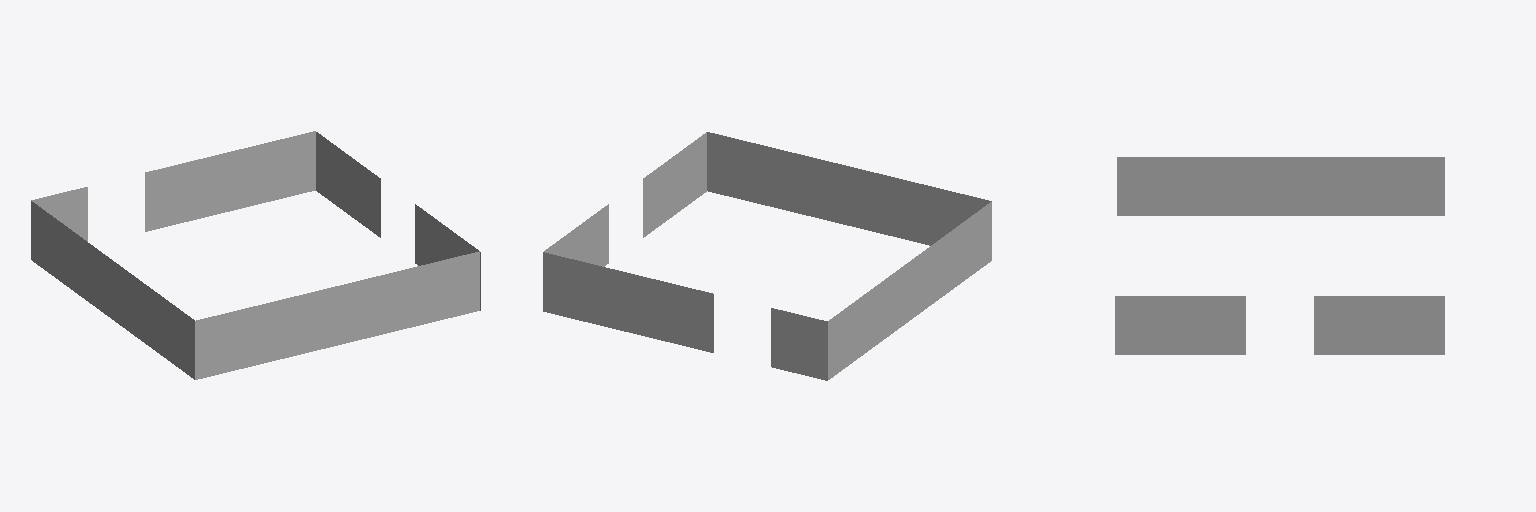
File: Stage.obj
3 views of the same model, side by side, from view 1: azimuth 30°, elevation 25°; view 2: azimuth 150°, elevation 25°; view 3: azimuth 270°, elevation 25° (orthographic).
Parts seen in each view (by area): view 1: 立方体.005, 立方体.001, 立方体.004, 立方体.002, 立方体.003, 立方体; view 2: 立方体.005, 立方体.001, 立方体.004, 立方体.003, 立方体, 立方体.002; view 3: 立方体.004, 立方体.002, 立方体.003.
Part boxes in pixels (x1,y1,x2,y2): 立方体.005: (195,251,479,379); 立方体.001: (145,131,315,231); 立方体.004: (31,201,194,379); 立方体.002: (316,132,380,237); 立方体.003: (415,204,480,310); 立方体: (31,187,87,241); 立方体.005: (707,132,991,245); 立方体.001: (543,252,713,352); 立方体.004: (828,202,991,379); 立方体.003: (643,132,706,237); 立方体: (771,308,827,380); 立方体.002: (544,204,608,266); 立方体.004: (1117,157,1444,215); 立方体.002: (1314,296,1444,354); 立方体.003: (1115,296,1245,354).
Bounding box in the file's own units: 150 × 30 × 151.